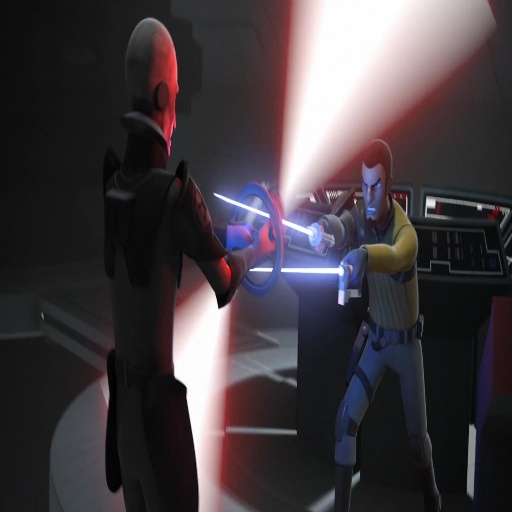hand: (252, 217, 276, 268), (226, 213, 254, 249), (341, 245, 365, 284), (312, 218, 331, 254)
